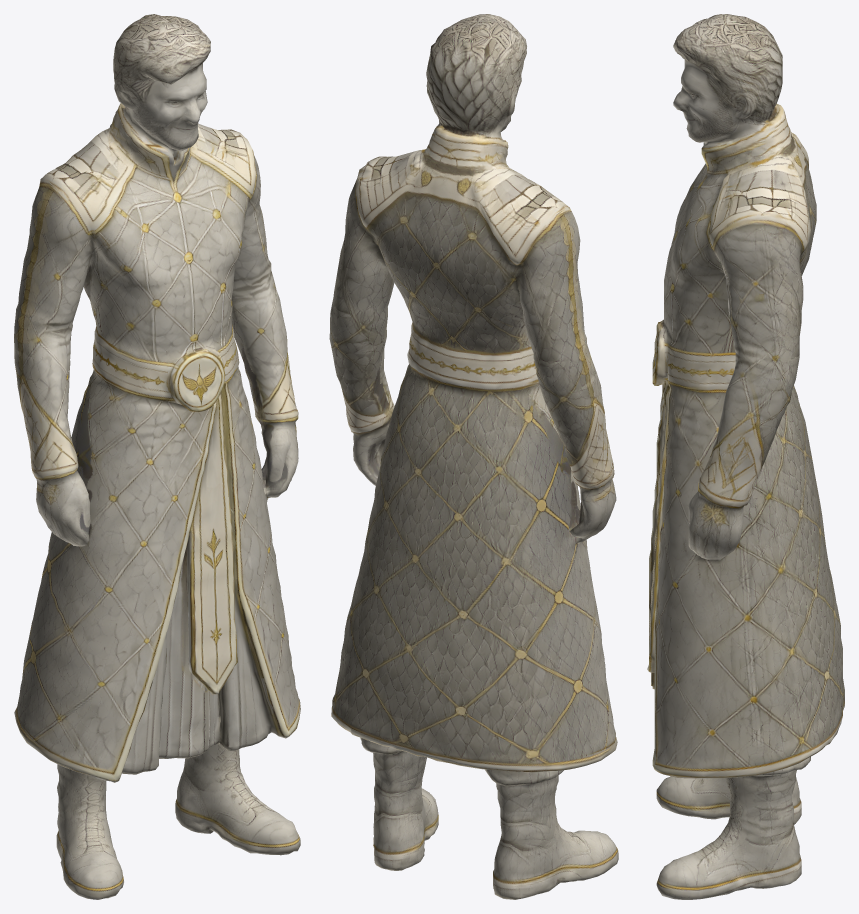
Rendered from TotemDani.glb.
The picture shows the model from 3 angles, left to right: view 1: azimuth 30°, elevation 25°; view 2: azimuth 150°, elevation 25°; view 3: azimuth 270°, elevation 25°; orthographic projection.
Bounding box in the file's own units: 0.6145 × 1.91 × 0.411.
1 material, 1 textured.
